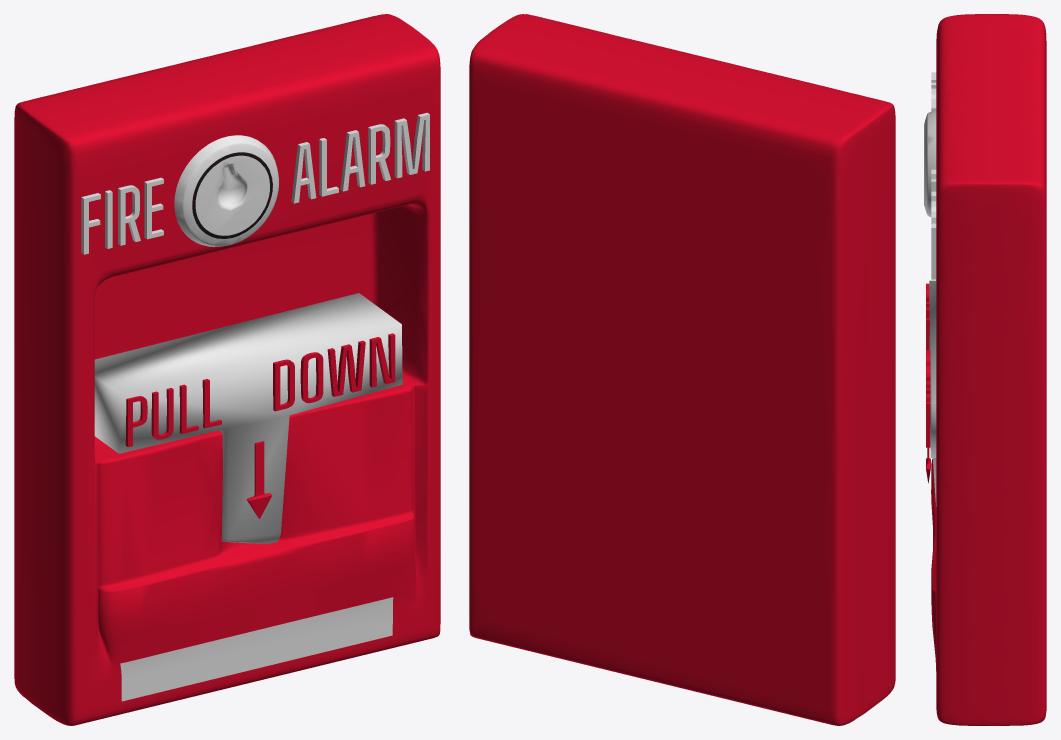
Rendered from fire-alarm-pull.glb.
The picture shows the model from 3 angles, left to right: view 1: azimuth 30°, elevation 25°; view 2: azimuth 150°, elevation 25°; view 3: azimuth 270°, elevation 25°; orthographic projection. The views are drawn at different scales.
Parts seen in each view (by area): view 1: Object_7, Object_5, Object_2, Object_3, Object_6, Object_4; view 2: Object_7; view 3: Object_7, Object_5, Object_3, Object_6.
Part boxes in pixels (x1,y1,x2,y2): Object_7: [14, 14, 440, 725]; Object_5: [81, 112, 429, 543]; Object_2: [120, 597, 393, 701]; Object_3: [174, 135, 278, 246]; Object_6: [125, 333, 395, 518]; Object_4: [192, 152, 272, 238]; Object_7: [469, 14, 895, 725]; Object_7: [931, 14, 1046, 725]; Object_5: [929, 72, 936, 506]; Object_3: [924, 109, 936, 216]; Object_6: [926, 283, 930, 483].
Bounding box in the file's own units: 0.101 × 0.15 × 0.0307.
